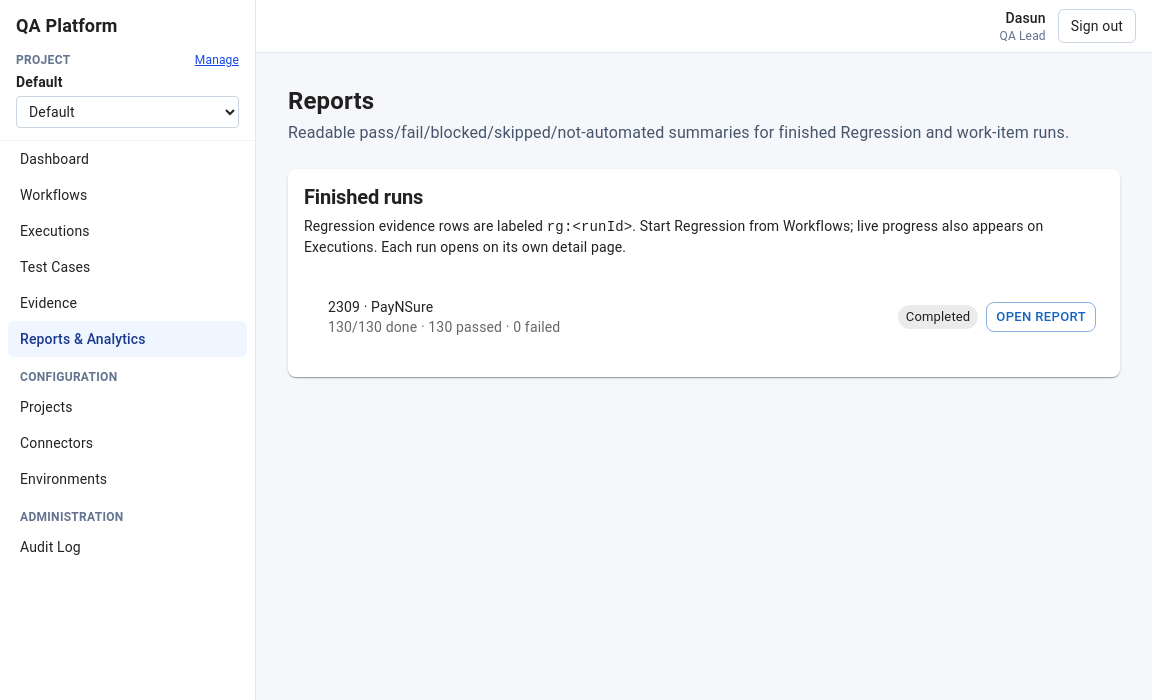
Test: route guard › Reports Open report navigates to the dedicated run detail page with charts
This screenshot has width=1152, height=700.
Click the button "Open report".
click(1041, 317)  # box [986,302,1096,332]
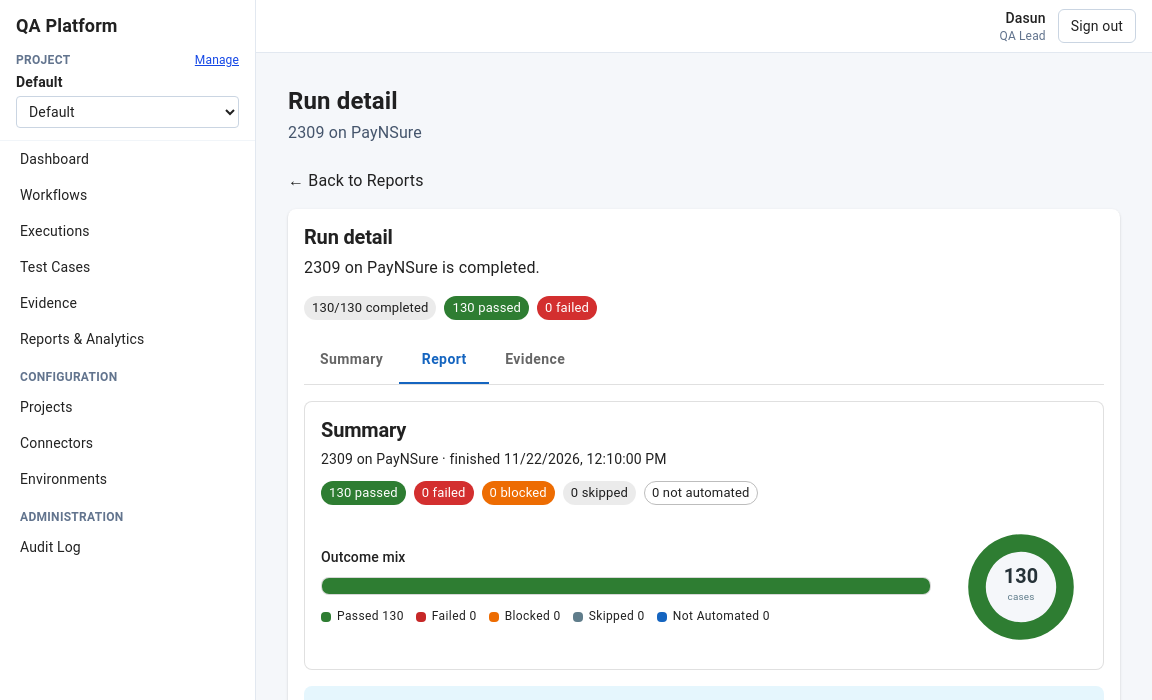
Expected: the 1st heading "Run detail" is shown, [288,87,398,115]
Expected: the link "← Back to Reports" is shown, [288,171,424,190]
Expected: the text "130 passed" below "· finished 11/22/2026, 12:10:00 PM" is shown, [329,485,398,500]
